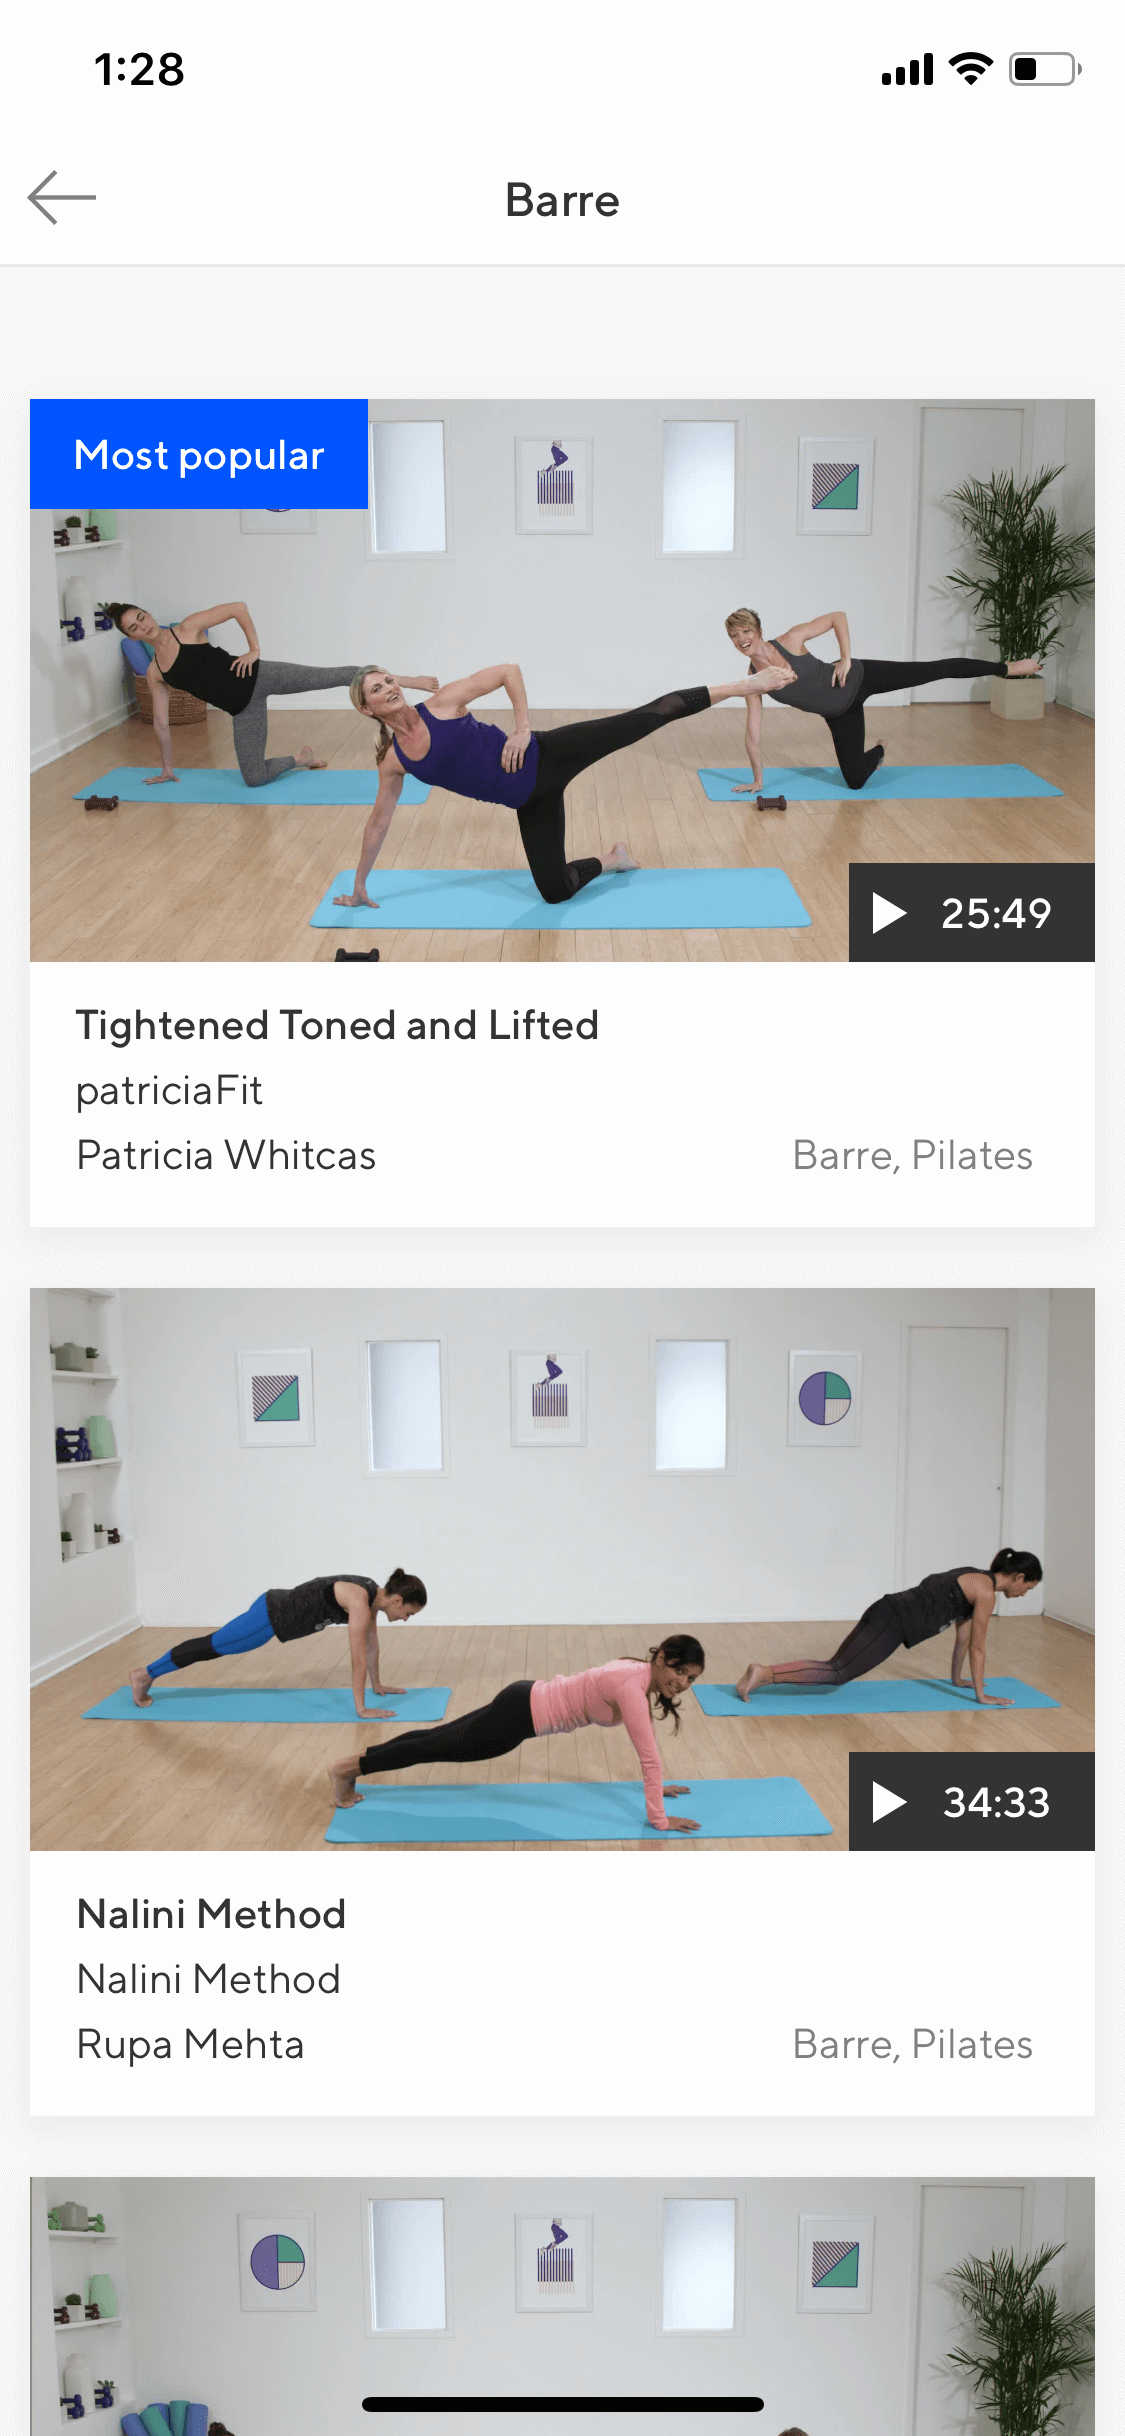Buttons: (5, 127, 129, 252)
